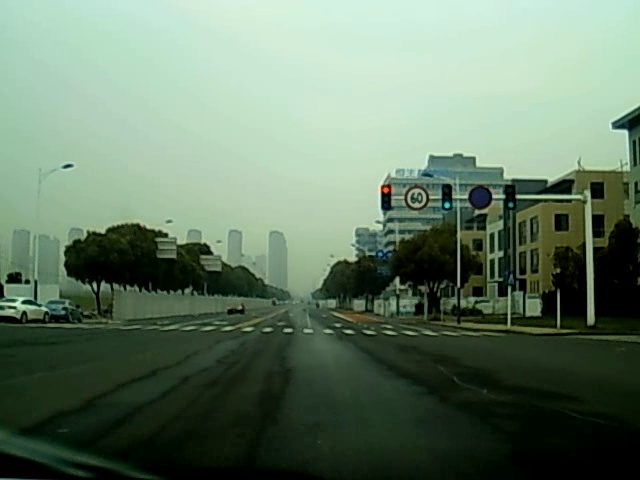Traffic_Light_go: (441, 185, 452, 213), (504, 184, 515, 212)
Traffic_Light_stop: (379, 185, 391, 211)
